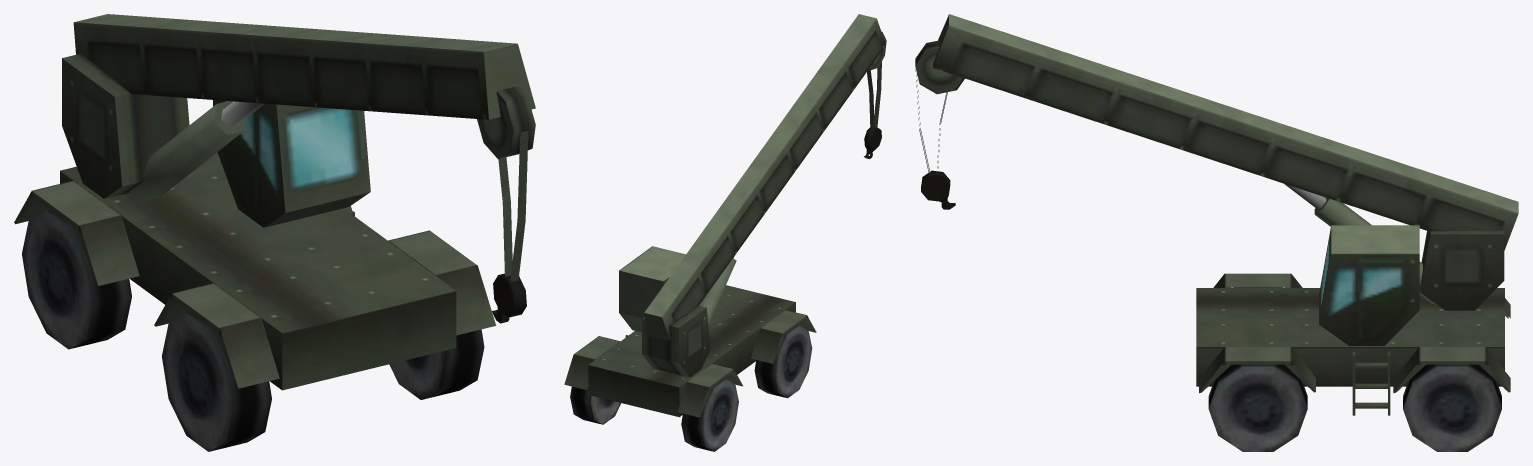
Rendered from Crane.DAE.
The picture shows the model from 3 angles, left to right: view 1: azimuth 30°, elevation 25°; view 2: azimuth 150°, elevation 25°; view 3: azimuth 270°, elevation 25°; orthographic projection. The views are drawn at different scales.
Visible parts, largest first — view 1: _1573_Crane; view 2: _1573_Crane; view 3: _1573_Crane.
Boxes of the visible parts, bbox=[...] form: _1573_Crane: bbox=[14, 14, 535, 451]; _1573_Crane: bbox=[564, 14, 886, 451]; _1573_Crane: bbox=[915, 14, 1518, 451].
Size of the model in its own units: 114 by 228 by 333.
Materials: 1 (1 with a texture image).
